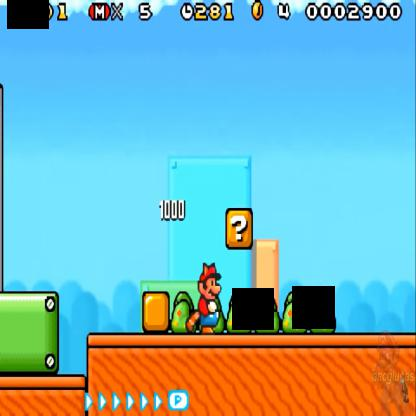Mario: (188, 259, 224, 340)
moneda: (249, 1, 265, 24)
